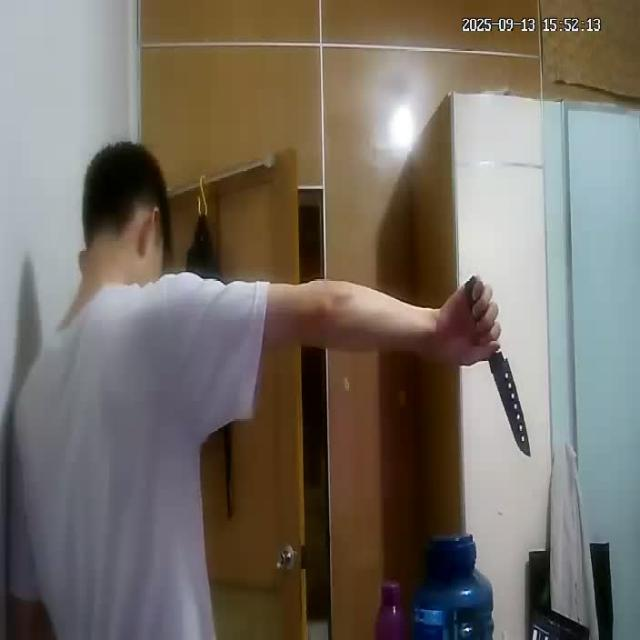senjata_tajam: (488, 349, 531, 460)
